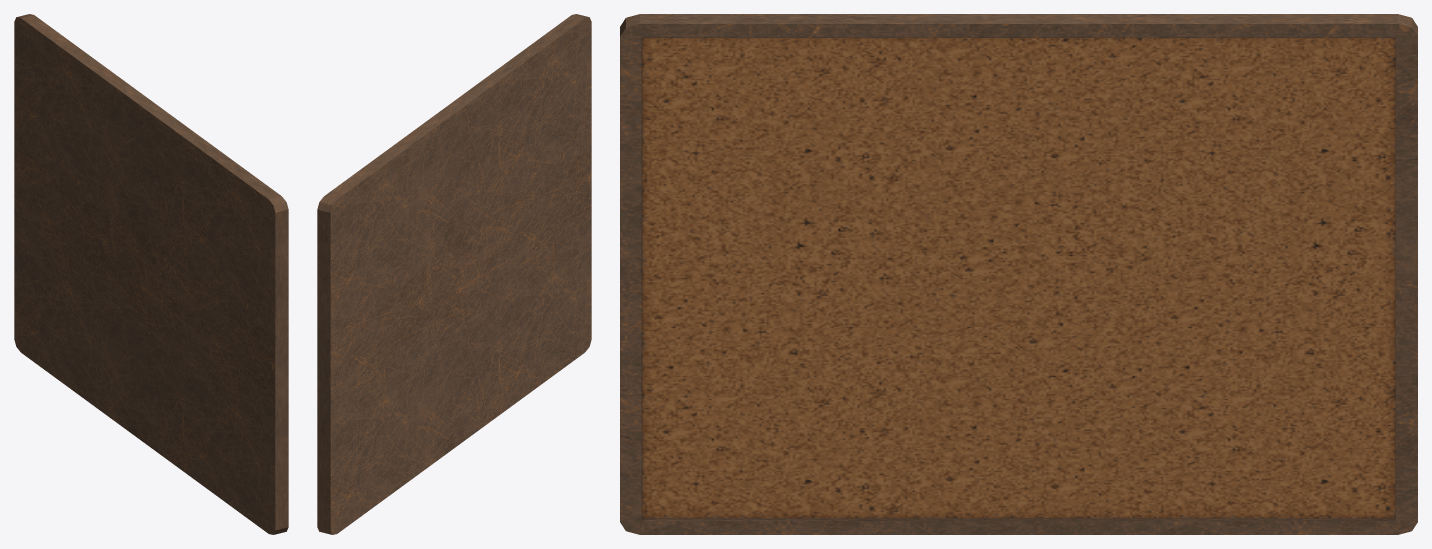
File: Nastenka.fbx
3 renders of one model, left to right at view 1: azimuth 30°, elevation 25°; view 2: azimuth 150°, elevation 25°; view 3: azimuth 270°, elevation 25°, orthographic. The views are drawn at different scales.
Visible parts, largest first — view 1: Nastenka; view 2: Nastenka; view 3: Nastenka.
Boxes of the visible parts, left/top/right/bottom form: Nastenka: left=14, top=14, right=288, bottom=534; Nastenka: left=317, top=14, right=591, bottom=534; Nastenka: left=620, top=14, right=1417, bottom=534.
Bounding box in the file's own units: 14.92 × 359 × 508.
1 material, 1 textured.
